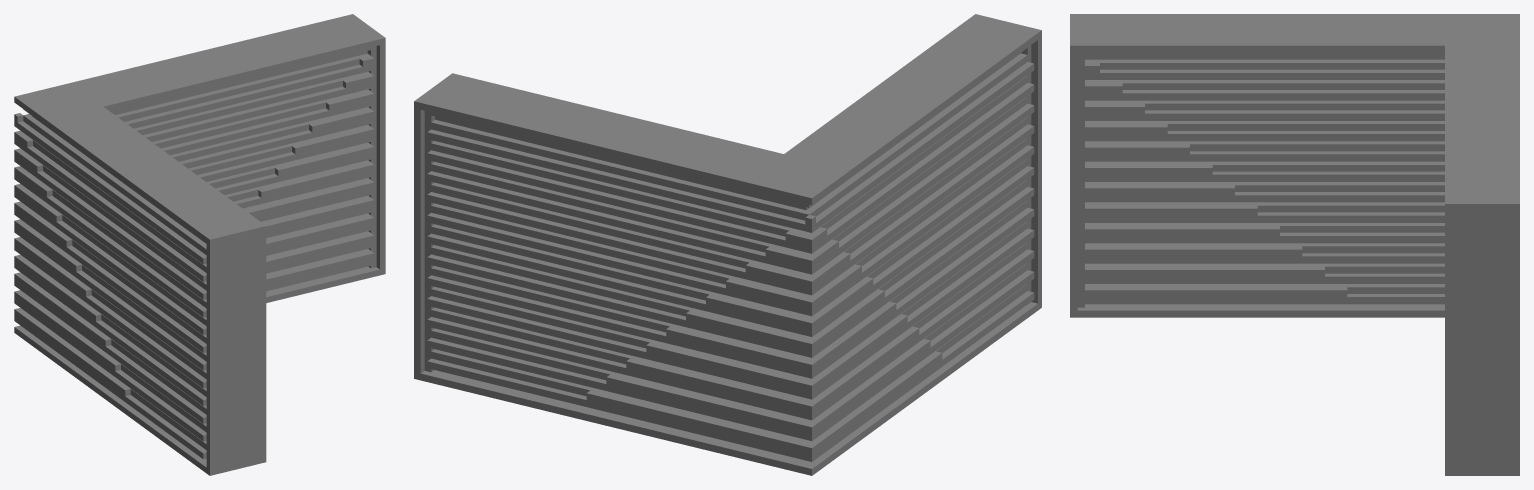
Rendered from Command Corner.obj.
The picture shows the model from 3 angles, left to right: view 1: azimuth 30°, elevation 25°; view 2: azimuth 150°, elevation 25°; view 3: azimuth 270°, elevation 25°; orthographic projection. The views are drawn at different scales.
Size of the model in its own units: 60 by 40 by 60.
1 material, 1 textured.
